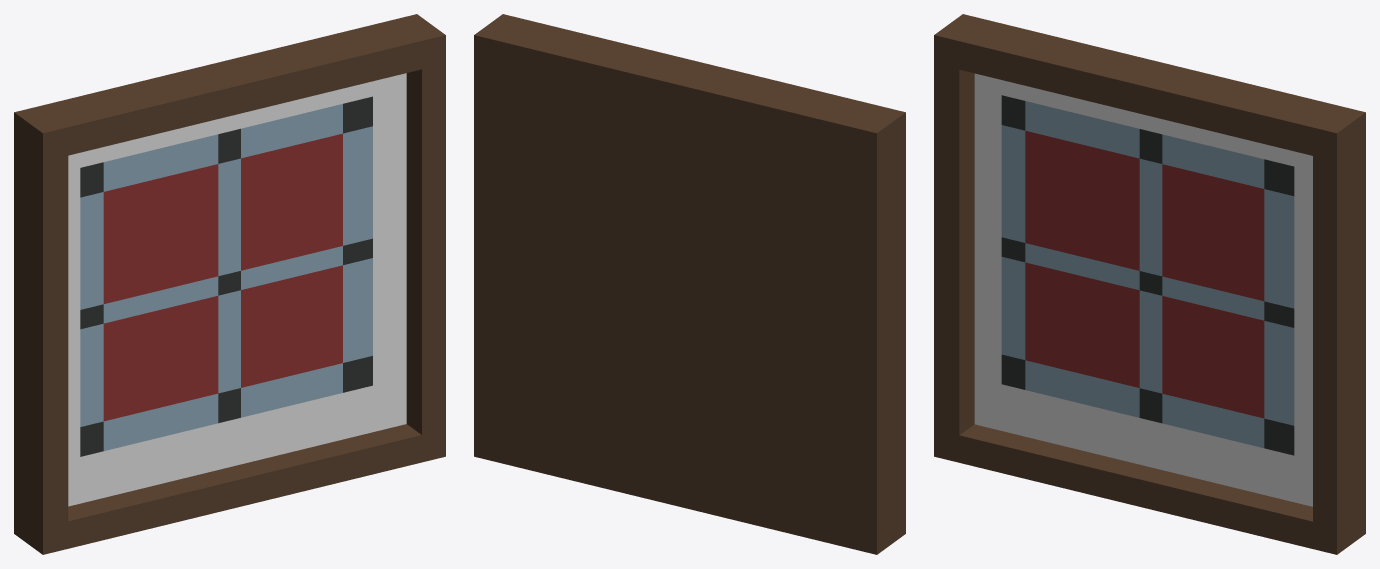
The model's file is painting1.fbx.
3 views of the same model, side by side, from view 1: azimuth 30°, elevation 25°; view 2: azimuth 150°, elevation 25°; view 3: azimuth 330°, elevation 25° (orthographic).
Parts seen in each view (by area): view 1: pCube5; view 2: pCube5; view 3: pCube5.
Boxes of the visible parts, bbox=[...] form: pCube5: bbox=[14, 14, 445, 554]; pCube5: bbox=[474, 14, 905, 554]; pCube5: bbox=[934, 14, 1365, 554].
Bounding box in the file's own units: 4.98 × 4.98 × 0.6164.
